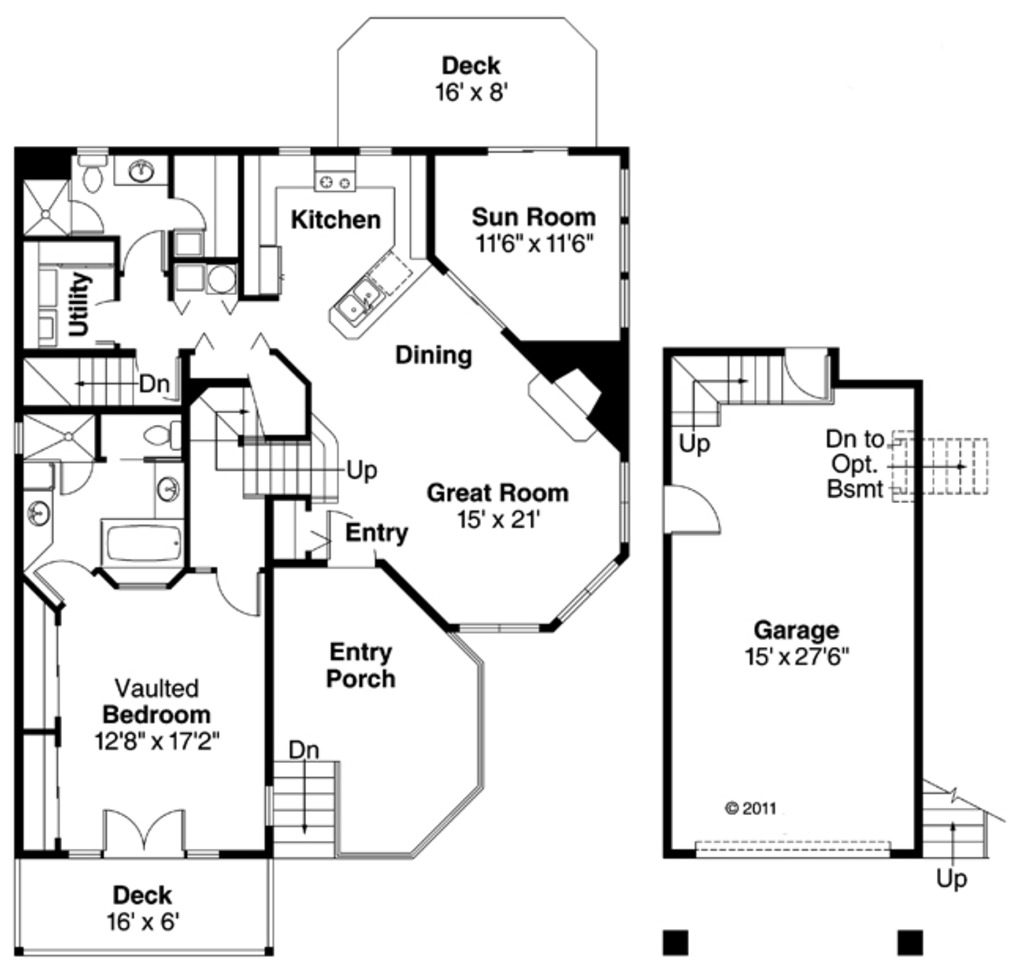door: (655, 476, 754, 552), (90, 802, 202, 867), (31, 552, 111, 607), (202, 558, 263, 619), (113, 232, 170, 284), (60, 194, 113, 235), (61, 461, 99, 502), (166, 191, 204, 228)
large_sink: (138, 410, 190, 460), (76, 137, 119, 194)
small_sink: (8, 490, 70, 544), (141, 461, 193, 514), (119, 149, 169, 182)
stairs: (184, 382, 360, 511), (673, 340, 841, 451), (875, 411, 996, 526), (897, 754, 999, 866), (267, 749, 343, 867), (14, 343, 144, 402)
tub: (99, 516, 190, 564)
twin_sink: (326, 267, 394, 334)
window: (607, 166, 647, 341), (557, 560, 635, 626), (460, 617, 538, 635), (272, 140, 319, 164), (352, 141, 399, 164), (617, 454, 625, 540)
